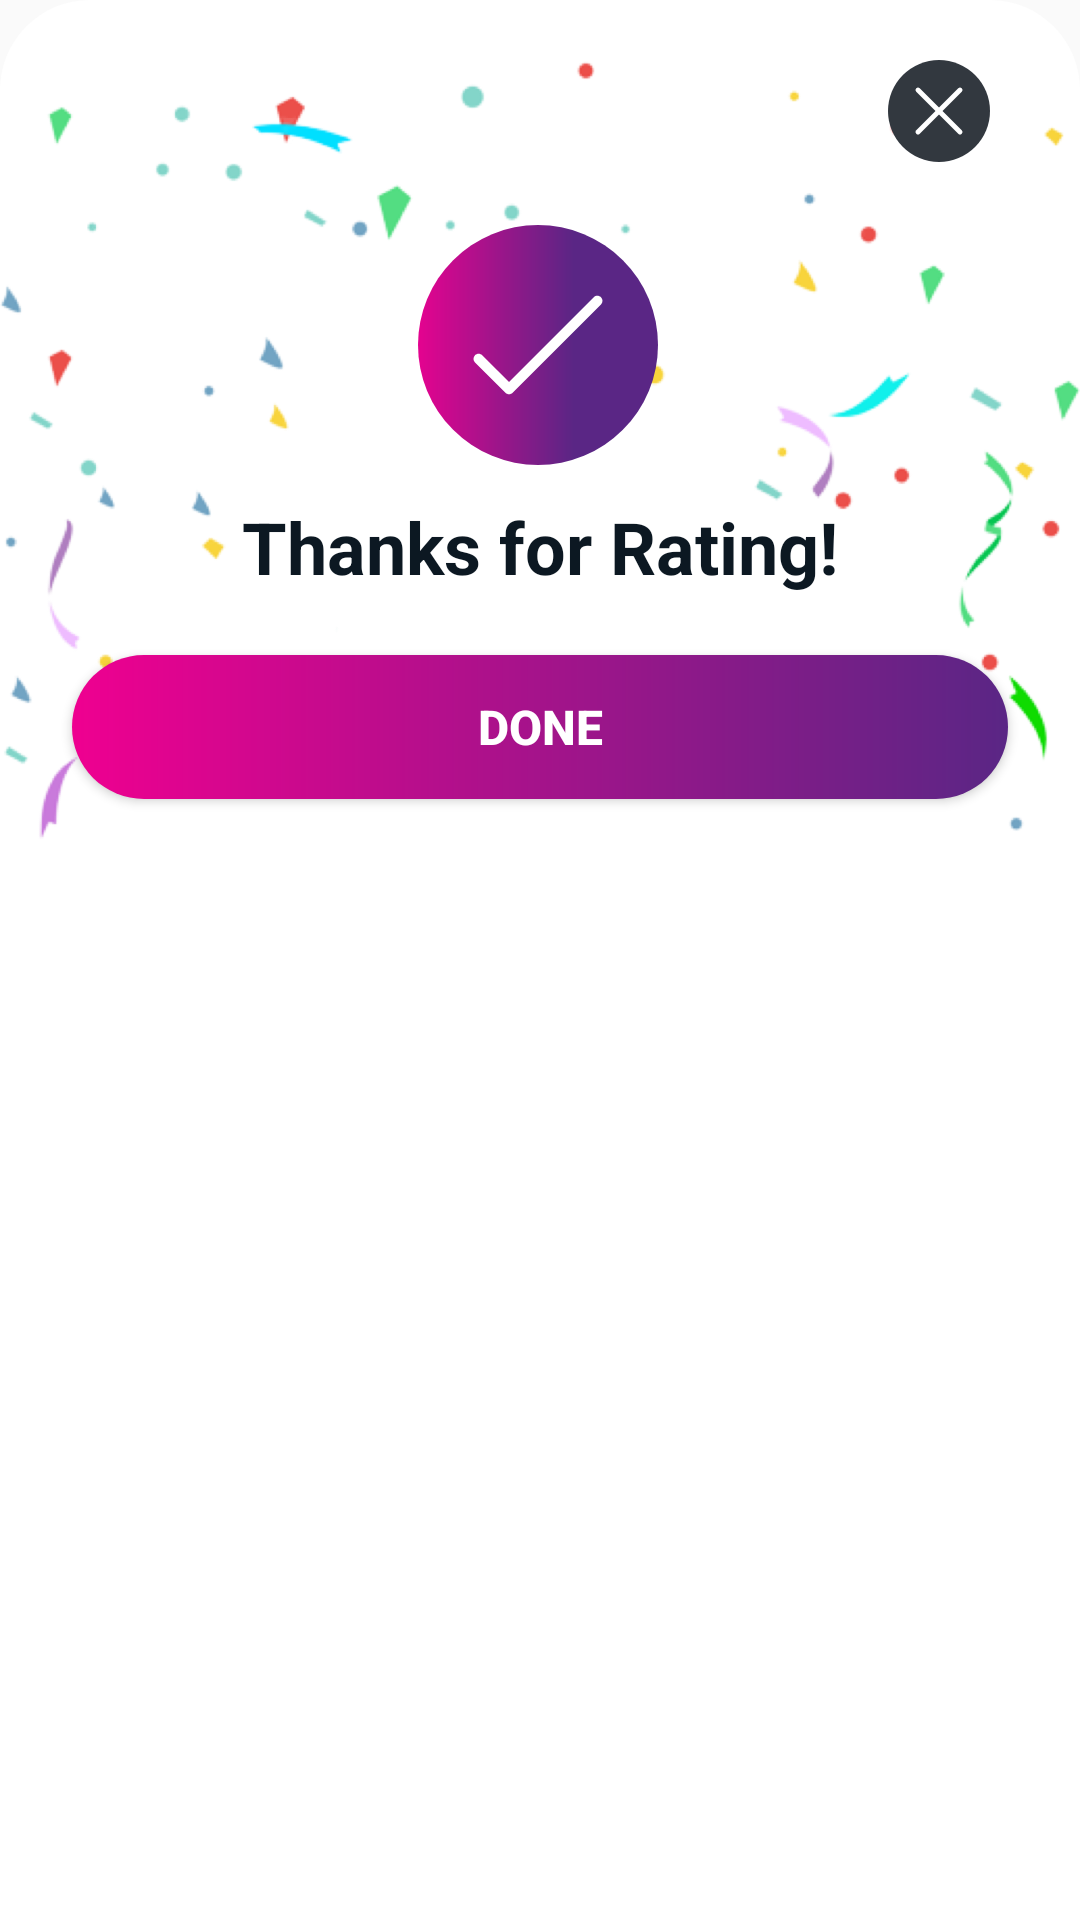

Named icons in this screenshot (1080w x 1920h) and their centers, (x=x, y=y):
cancel: (x=939, y=111)
